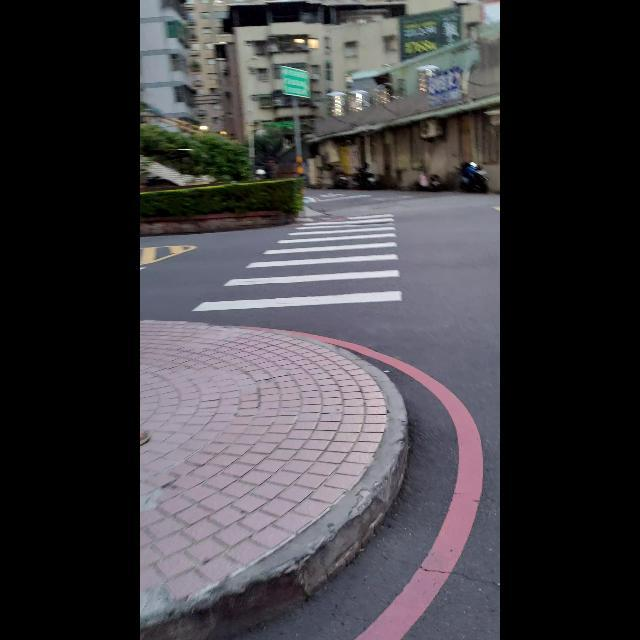sidewalk: (193, 212, 403, 312)
